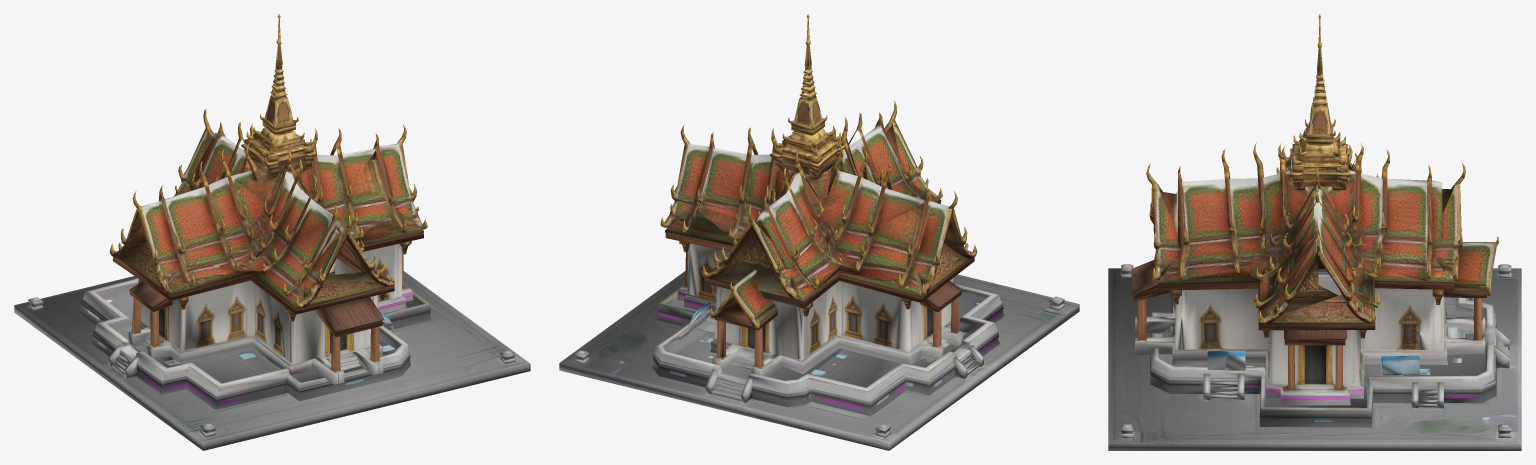
Rendered from lm_grand_palace.glb.
3 views of the same model, side by side, from view 1: azimuth 30°, elevation 25°; view 2: azimuth 150°, elevation 25°; view 3: azimuth 270°, elevation 25° (orthographic). The views are drawn at different scales.
Visible parts, largest first — view 1: Body, Trim; view 2: Body, Trim; view 3: Body, Trim.
Part boxes in pixels (x1,y1,x2,y2): Body: (14,65,530,450); Trim: (109,14,427,340); Body: (559,65,1079,450); Trim: (660,14,977,328); Body: (1108,70,1521,450); Trim: (1146,14,1498,323).
Bounding box in the file's own units: 40 × 37.81 × 40.
2 materials, 2 textured.
